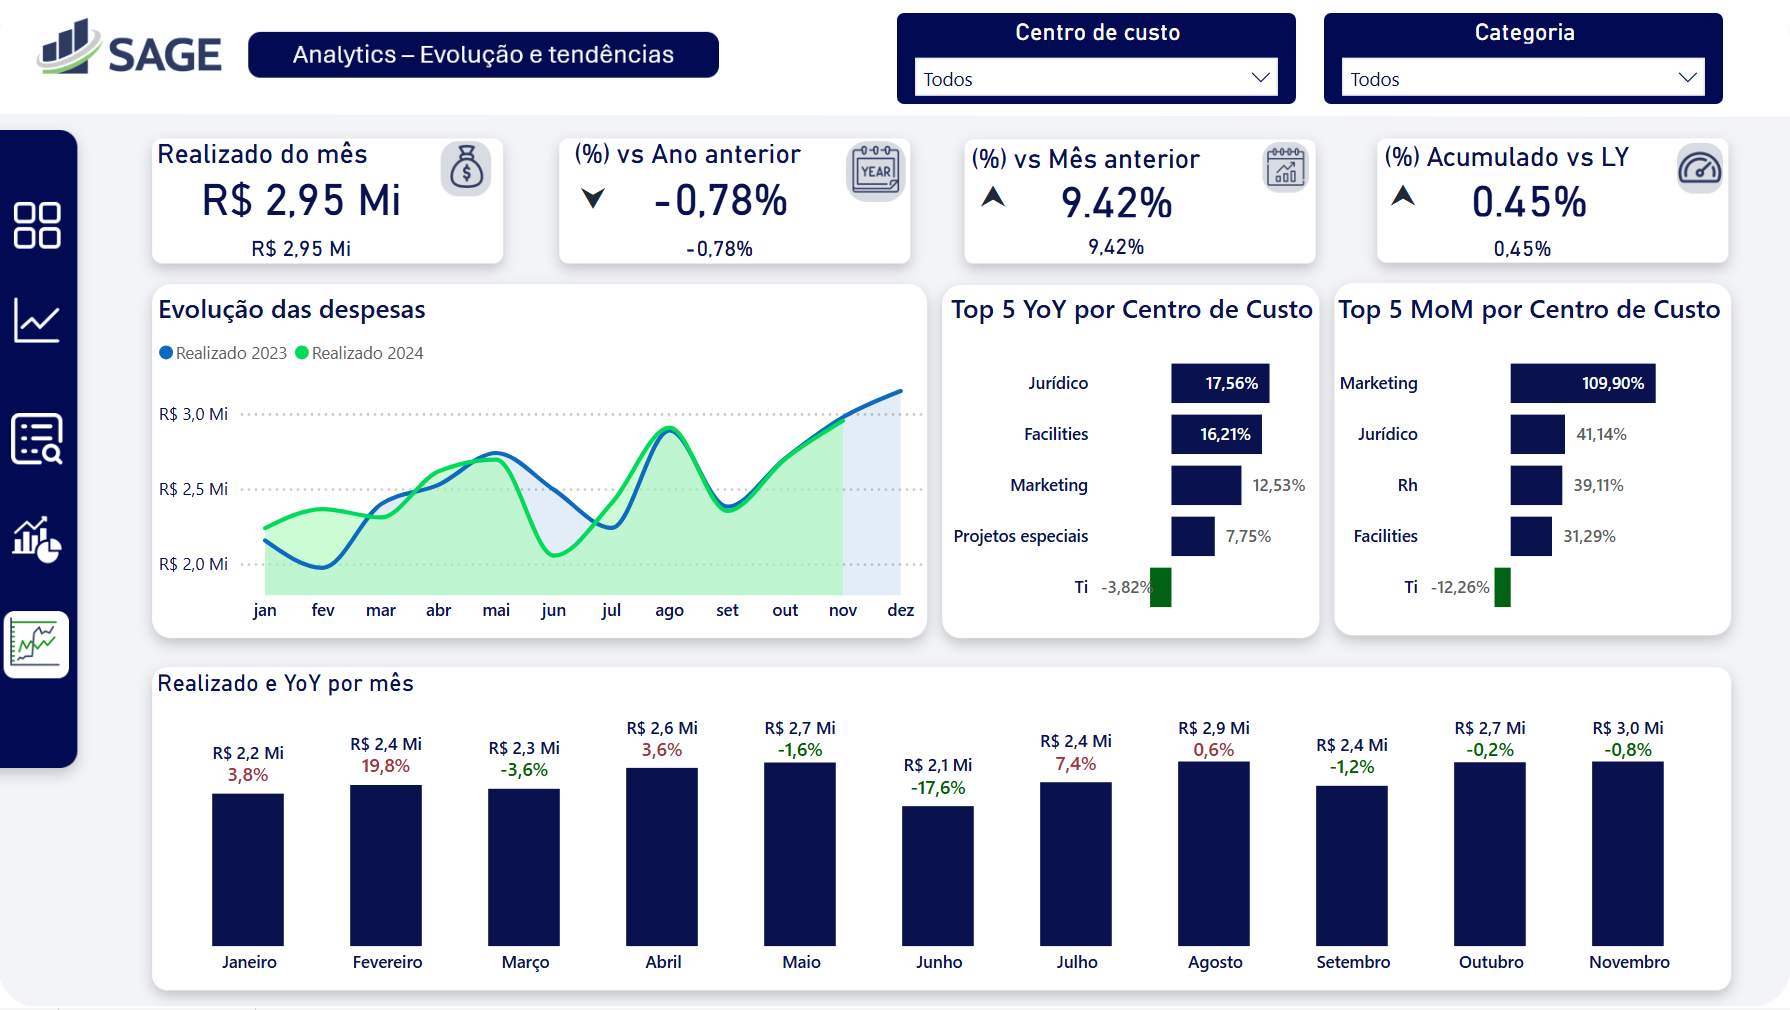

What the dashboard file says about the page in this screenshot:
{"tool":"powerbi","page":{"name":"Analytics - Evolução","canvas":[1280,720],"ordinal":5},"visuals":[{"type":"card","title":"Realizado do mês","fields":{"Values":["Medidas.Real total Mês Atual"]},"box":[108.7,98.4,216.2,61.8],"z":0},{"type":"card","title":"(%) vs Ano anterior","fields":{"Values":["Medidas.YOY %"]},"box":[407.2,98.4,216.2,61.8],"z":1000},{"type":"card","title":"(%) vs Mês anterior","fields":{"Values":["Medidas.MOM %"]},"box":[690.9,101.8,216.2,58.3],"z":2000},{"type":"card","title":" (%) Acumulado vs LY","fields":{"Values":["Medidas.YTD VS LY"]},"box":[986,100.7,216.2,59.5],"z":3000},{"type":"card","fields":{"Values":["Medidas.YOY %"]},"box":[441.2,161.1,147.2,32.9],"z":4000},{"type":"card","fields":{"Values":["Medidas.MOM %"]},"box":[724.9,160.2,147.2,33.9],"z":5000},{"type":"card","fields":{"Values":["Medidas.YTD VS LY"]},"box":[1015.8,161.3,146.4,33.2],"z":6000},{"type":"lineChart","title":"Evolução das despesas","fields":{"Category":["dim_mes.nome_mes_abrev"],"Y":["Medidas.Real LY","Medidas.Realizado Ano Atual"]},"box":[109.4,207,557,247.1],"z":7000},{"type":"slicer","title":"Centro de custo","fields":{"Values":["dim_centro_de_custo.nome_centro_de_custo"]},"box":[642.3,9.2,285.4,65.4],"z":8000},{"type":"slicer","title":"Categoria","fields":{"Values":["dim_categoria.nome_categoria"]},"box":[946.9,9.2,285.4,65.4],"z":9000},{"type":"barChart","title":"Top 5  YoY por Centro de Custo","fields":{"Y":["Medidas.YOY %"],"Category":["dim_centro_de_custo.nome_centro_de_custo"]},"box":[675.6,207,272.6,247.1],"z":10000},{"type":"card","fields":{"Values":["Medidas.icon YOY"]},"box":[407.2,123.5,35.5,35.5],"z":11000},{"type":"card","fields":{"Values":["Medidas.icon MOM"]},"box":[692,123.5,36.6,36.6],"z":12000},{"type":"card","fields":{"Values":["Medidas.icon YTD vs LY"]},"box":[986,123.5,35.5,35.5],"z":13000},{"type":"card","fields":{"Values":["Medidas.Real total Mês Atual"]},"box":[143,161.1,147.2,32.9],"z":14000},{"type":"barChart","title":"Top 5  MoM por Centro de Custo","fields":{"Y":["Medidas.MOM % Card"],"Category":["dim_centro_de_custo.nome_centro_de_custo"]},"box":[951.8,207,284.4,247.1],"z":15000},{"type":"actionButton","box":[5.9,292.2,44,39.8],"z":16000},{"type":"actionButton","box":[5.9,365.8,43.9,39.7],"z":17000},{"type":"actionButton","box":[5.9,208.4,44,39.8],"z":18000},{"type":"actionButton","box":[5,140.4,44.6,39.6],"z":19000},{"type":"clusteredColumnChart","title":"Realizado e YoY por mês","fields":{"Category":["dim_mes.nome_mes_format"],"Y":["Medidas.Realizado Ano Atual"]},"box":[108.5,477.7,1127.7,227.9],"z":20000}]}

Visuals, with their boxes on the page's 1280x720 design canvas (x1, y1, x2, y2). These are canvas units, not pixel positions in the 1790x1010 screenshot, which may show the page scaled, cropped or inside an application window:
"Realizado do mês" card: x1=109 y1=98 x2=325 y2=160
"(%) vs Ano anterior" card: x1=407 y1=98 x2=623 y2=160
"(%) vs Mês anterior" card: x1=691 y1=102 x2=907 y2=160
" (%) Acumulado vs LY" card: x1=986 y1=101 x2=1202 y2=160
card - Medidas.YOY %: x1=441 y1=161 x2=588 y2=194
card - Medidas.MOM %: x1=725 y1=160 x2=872 y2=194
card - Medidas.YTD VS LY: x1=1016 y1=161 x2=1162 y2=194
"Evolução das despesas" lineChart: x1=109 y1=207 x2=666 y2=454
"Centro de custo" slicer: x1=642 y1=9 x2=928 y2=75
"Categoria" slicer: x1=947 y1=9 x2=1232 y2=75
"Top 5  YoY por Centro de Custo" barChart: x1=676 y1=207 x2=948 y2=454
card - Medidas.icon YOY: x1=407 y1=124 x2=443 y2=159
card - Medidas.icon MOM: x1=692 y1=124 x2=729 y2=160
card - Medidas.icon YTD vs LY: x1=986 y1=124 x2=1022 y2=159
card - Medidas.Real total Mês Atual: x1=143 y1=161 x2=290 y2=194
"Top 5  MoM por Centro de Custo" barChart: x1=952 y1=207 x2=1236 y2=454
actionButton: x1=6 y1=292 x2=50 y2=332
actionButton: x1=6 y1=366 x2=50 y2=406
actionButton: x1=6 y1=208 x2=50 y2=248
actionButton: x1=5 y1=140 x2=50 y2=180
"Realizado e YoY por mês" clusteredColumnChart: x1=108 y1=478 x2=1236 y2=706
